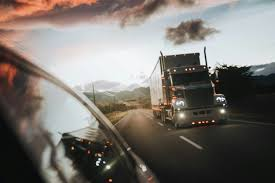Truck: (148, 44, 233, 125)
